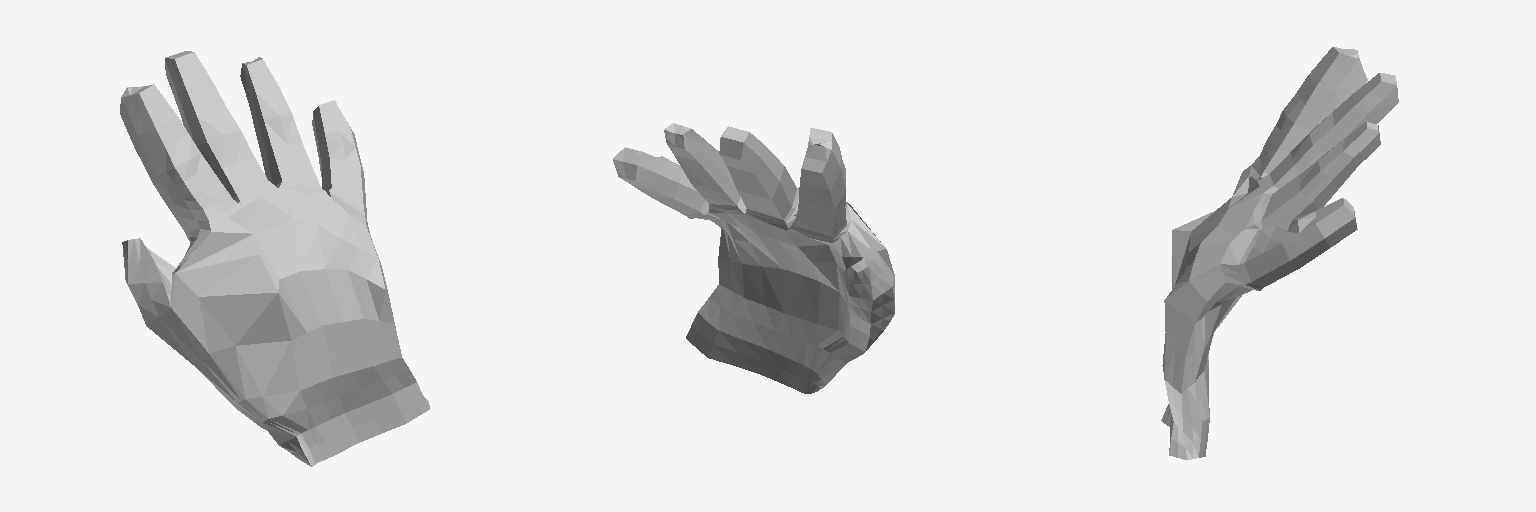
File: flexion0024.obj
The picture shows the model from 3 angles: view 1: azimuth 30°, elevation 25°; view 2: azimuth 150°, elevation 25°; view 3: azimuth 270°, elevation 25°; orthographic projection.
Visible parts, largest first — view 1: Hand; view 2: Hand; view 3: Hand.
Boxes of the visible parts, x1,y1,x2,y2 form: Hand: [120, 51, 429, 466]; Hand: [613, 123, 894, 393]; Hand: [1161, 47, 1398, 460].
Bounding box in the file's own units: 3.27 × 4.18 × 2.66.